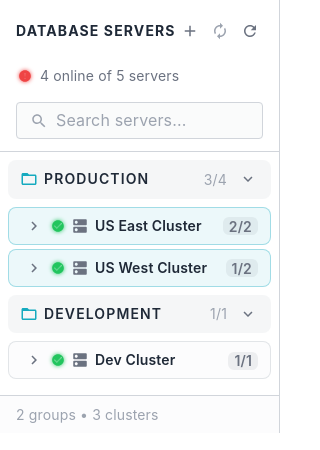
ClusterNavigator › shows empty state when no servers match search
Type "nonexistent" into the field with placeholder "Search servers..." at (160, 121), box [56,102,263,139]
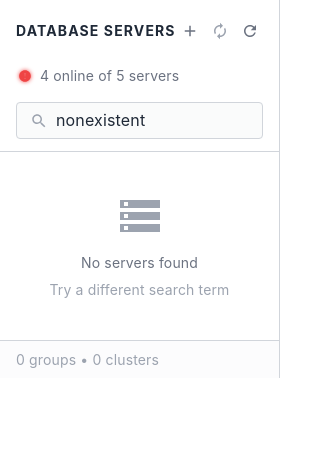
Check: the text "No servers found" is shown, box [81,252,198,275]
